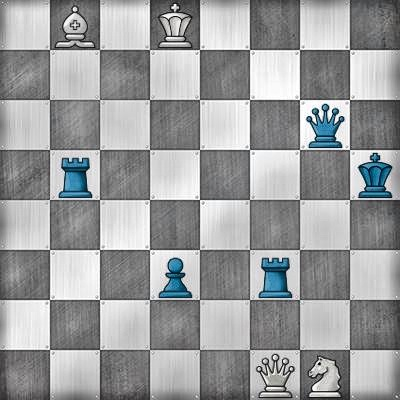black-king: (350, 150, 400, 200)
black-pawn: (150, 250, 200, 300)
black-queen: (300, 100, 350, 150)
black-rook: (50, 150, 100, 200), (250, 250, 300, 300)
white-bishop: (50, 0, 100, 50)
white-king: (150, 0, 200, 50)
white-knight: (300, 350, 350, 400)
white-queen: (250, 350, 300, 400)
